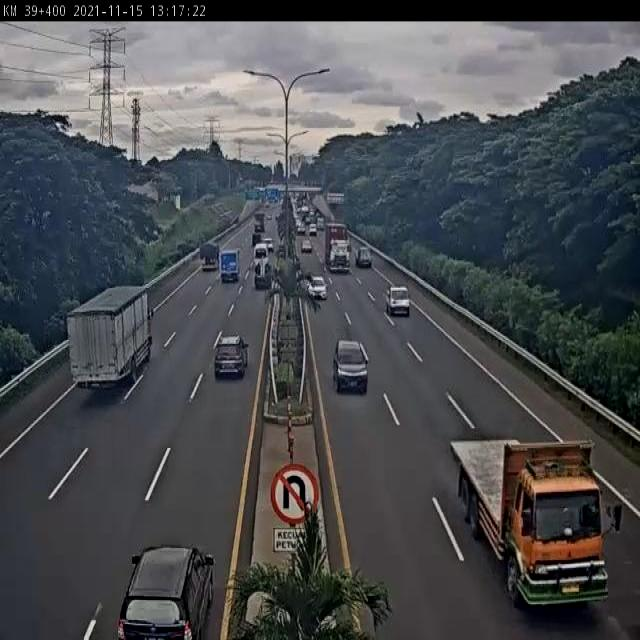Car: (106, 528, 221, 640), (332, 338, 369, 394), (214, 333, 249, 378), (385, 285, 410, 317), (306, 274, 328, 300), (356, 247, 372, 268), (264, 237, 274, 253), (301, 239, 312, 253), (297, 223, 306, 235), (309, 222, 317, 235)
Truck: (438, 424, 614, 614), (54, 275, 158, 412), (325, 225, 354, 276), (217, 250, 244, 286), (198, 245, 223, 271)
